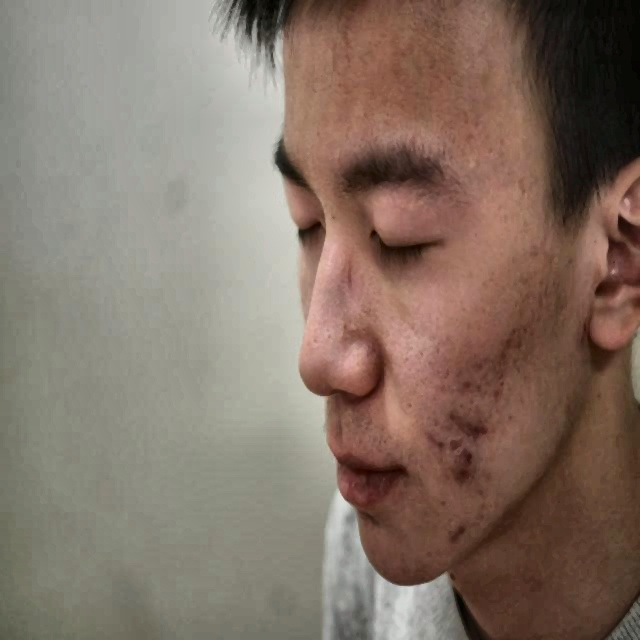pustule: (458, 441, 482, 464), (470, 415, 487, 447), (427, 428, 444, 459), (443, 405, 463, 431), (448, 516, 468, 542), (488, 345, 513, 364), (445, 430, 463, 452), (451, 462, 470, 482)
